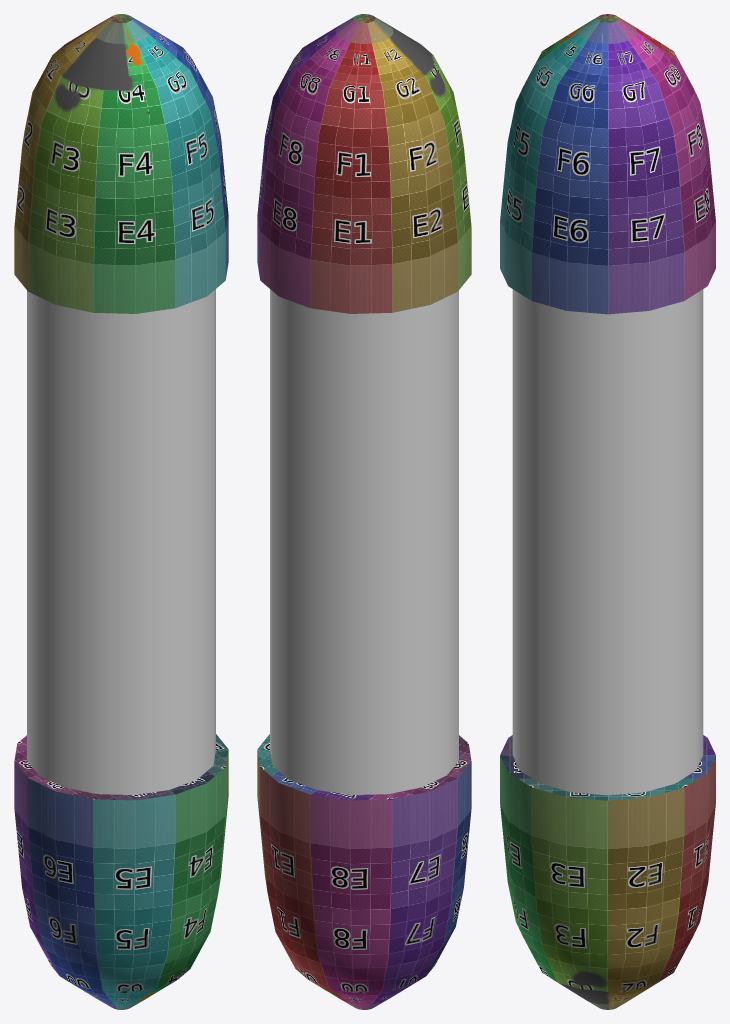
File: Alivasion_EnemyAmmunition_BaseMissile.fbx
3 views of the same model, side by side, from view 1: azimuth 30°, elevation 25°; view 2: azimuth 150°, elevation 25°; view 3: azimuth 270°, elevation 25° (orthographic).
Visible parts, largest first — view 1: Cylinder; view 2: Cylinder; view 3: Cylinder.
Part boxes in pixels (<box>): Cylinder: <box>14,14,228,1009</box>; Cylinder: <box>257,14,471,1009</box>; Cylinder: <box>500,14,715,1009</box>.
Size of the model in its own units: 94.57 by 477 by 94.57.
